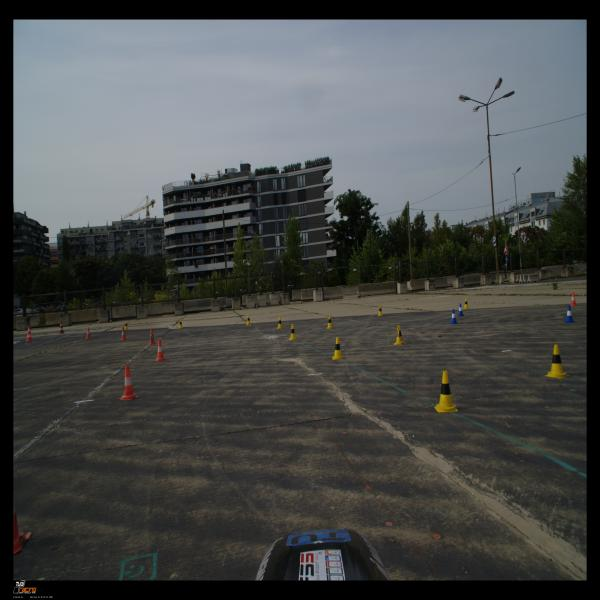blue_cone: (563, 305, 576, 323), (449, 309, 458, 324), (456, 304, 464, 317)
large_orange_cone: (25, 326, 34, 341), (58, 321, 66, 334)
orange_cone: (13, 494, 31, 556), (118, 366, 140, 400), (155, 339, 167, 361), (148, 329, 156, 345), (570, 292, 578, 306), (120, 327, 128, 340), (85, 327, 91, 339)
yellow_cone: (434, 370, 458, 412), (544, 344, 570, 378), (332, 337, 344, 360), (393, 325, 406, 345), (288, 324, 298, 340), (326, 315, 334, 329), (377, 305, 384, 316), (277, 317, 283, 329), (463, 298, 469, 309), (246, 315, 252, 325), (178, 319, 183, 329), (124, 321, 129, 330)
